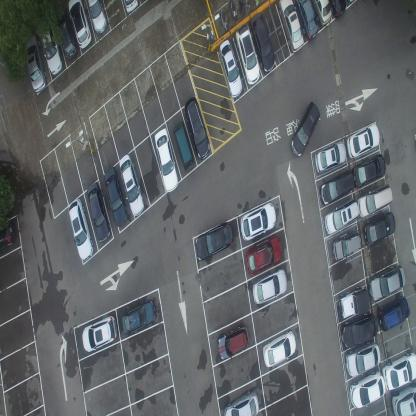car: (118, 153, 145, 218), (290, 100, 320, 158), (248, 12, 276, 74), (184, 95, 210, 160), (68, 198, 94, 262), (86, 181, 112, 243), (194, 220, 233, 261), (154, 128, 178, 194), (103, 166, 128, 228), (235, 23, 260, 84), (348, 370, 386, 410), (239, 201, 276, 242), (245, 235, 282, 276), (218, 38, 243, 98), (24, 31, 48, 92), (368, 264, 406, 302), (278, 0, 304, 55), (262, 329, 297, 369), (81, 315, 117, 353), (252, 267, 288, 305), (39, 16, 62, 74), (356, 183, 393, 219), (319, 170, 355, 207), (340, 313, 378, 348), (324, 198, 359, 235), (121, 297, 155, 335), (382, 351, 416, 389), (67, 0, 92, 51), (55, 6, 78, 61), (346, 124, 381, 160), (345, 342, 380, 378), (363, 210, 396, 248), (352, 153, 386, 189), (377, 296, 410, 333), (216, 323, 248, 360), (172, 123, 196, 171), (313, 140, 347, 172), (338, 286, 369, 320), (294, 0, 319, 42), (223, 388, 260, 415), (332, 233, 362, 262), (85, 0, 107, 35), (391, 387, 416, 414), (0, 216, 16, 252), (312, 0, 332, 27), (329, 0, 346, 19), (122, 0, 138, 15)
